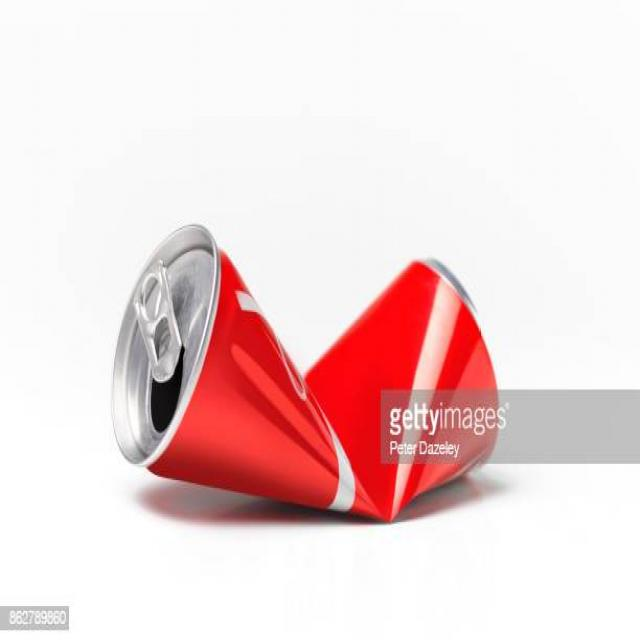non-organic waste: (84, 190, 504, 532)
